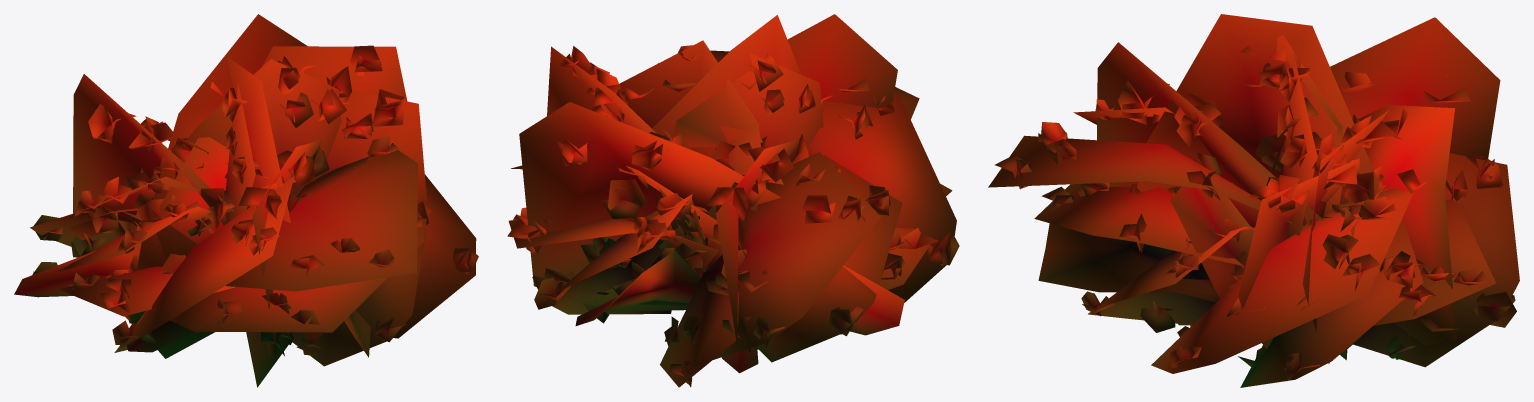
File: RoseBushSmallRHEP_B.fbx
3 views of the same model, side by side, from view 1: azimuth 30°, elevation 25°; view 2: azimuth 150°, elevation 25°; view 3: azimuth 270°, elevation 25° (orthographic). The views are drawn at different scales.
Visible parts, largest first — view 1: RBSRHEPB_LOD0; view 2: RBSRHEPB_LOD0; view 3: RBSRHEPB_LOD0.
Part boxes in pixels (x1=…): RBSRHEPB_LOD0: x1=14, y1=14, x2=478, y2=387; RBSRHEPB_LOD0: x1=507, y1=14, x2=959, y2=387; RBSRHEPB_LOD0: x1=988, y1=14, x2=1519, y2=387.
Size of what is drawn, in the model's own units: 2.11 by 1.47 by 2.18.
